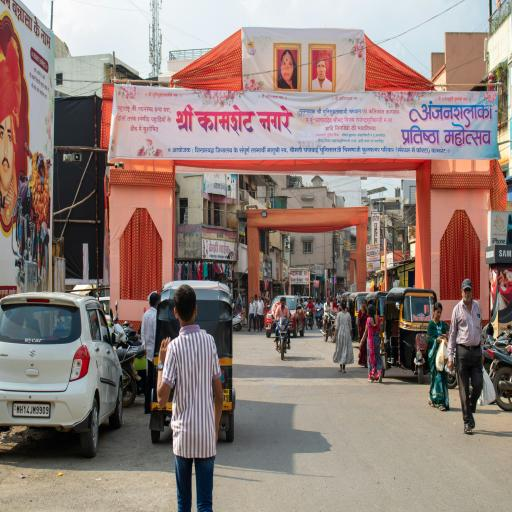auto: (150, 278, 236, 446), (383, 284, 439, 388)
bike: (276, 318, 292, 362)
car: (0, 292, 123, 457)
person: (160, 288, 222, 512), (453, 276, 486, 440), (427, 297, 453, 421), (362, 302, 384, 390), (336, 295, 354, 382)
